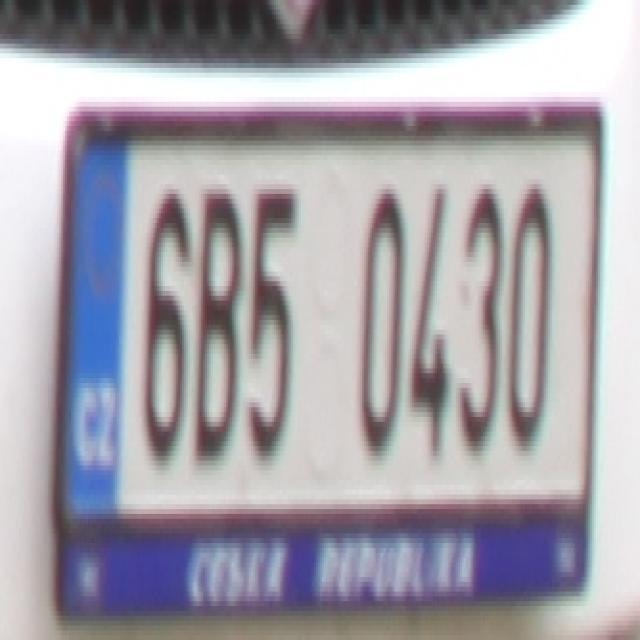0: (352, 184, 402, 461), (504, 179, 550, 451)
3: (456, 180, 500, 436)
4: (410, 170, 450, 446)
5: (247, 184, 295, 461)
6: (140, 184, 188, 461)
B: (192, 174, 240, 460)
